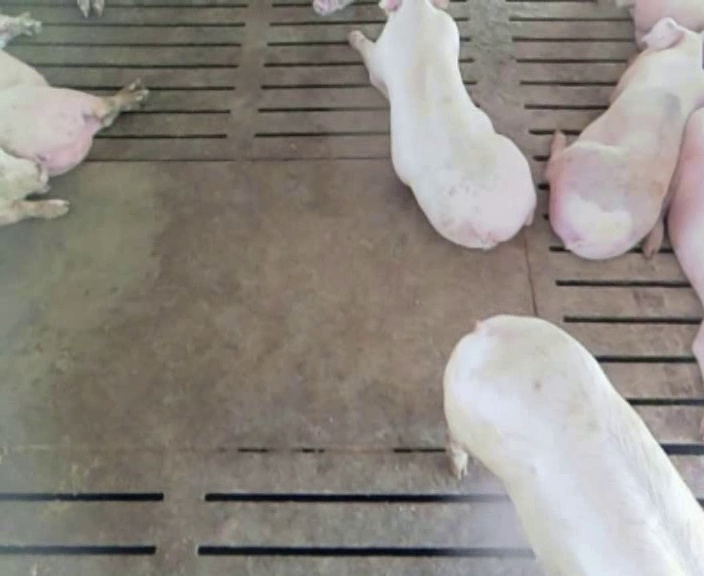pig: (444, 315, 703, 573), (349, 1, 535, 248), (547, 18, 703, 258)
